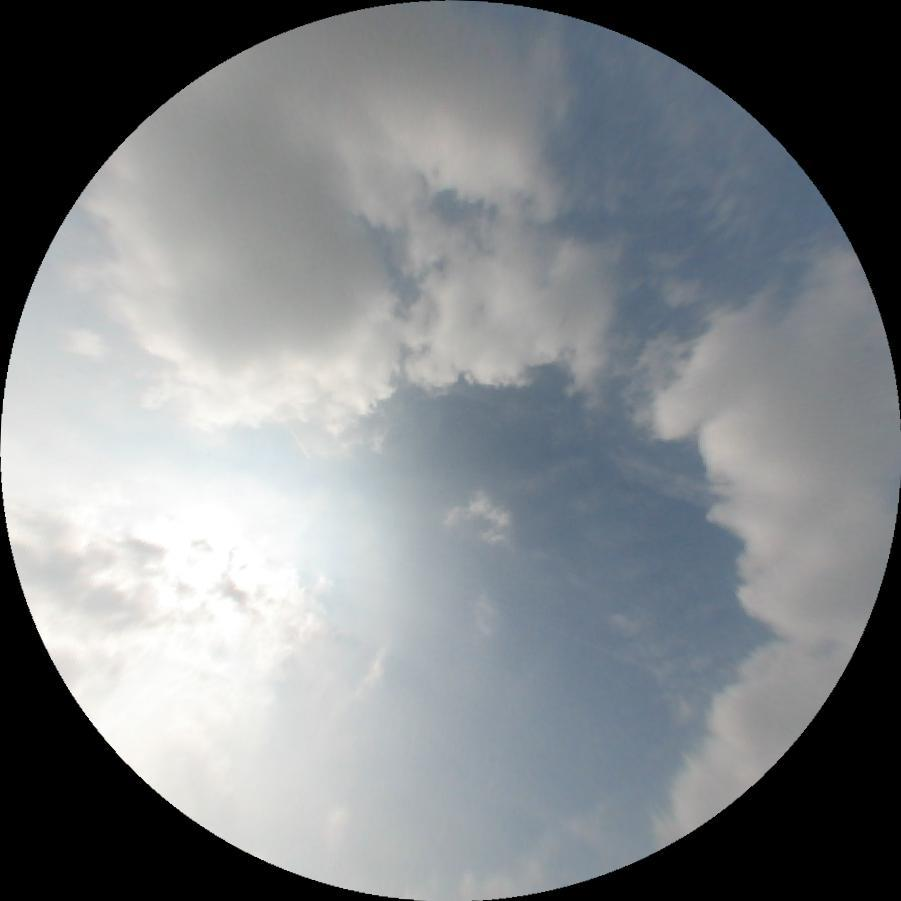contrail veryold: (610, 453, 722, 513)
contrail young: (284, 424, 310, 460)
sun: (101, 496, 319, 685)
